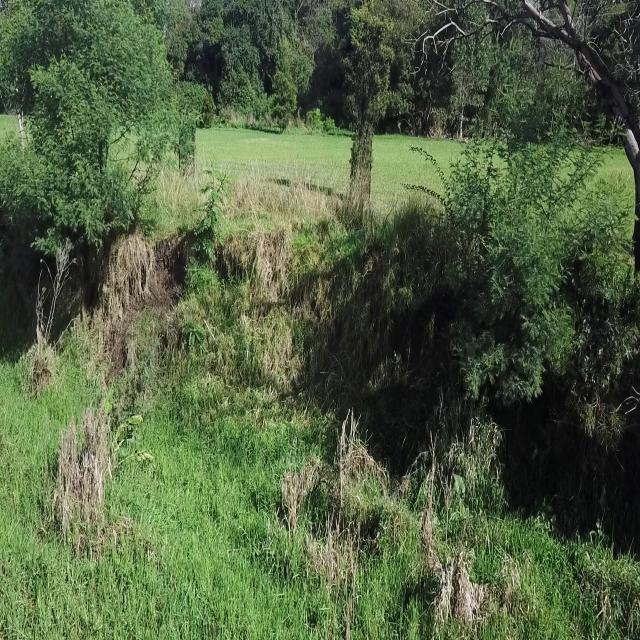Mysore-Thorn-Weed: (182, 158, 230, 297), (182, 315, 208, 355)
